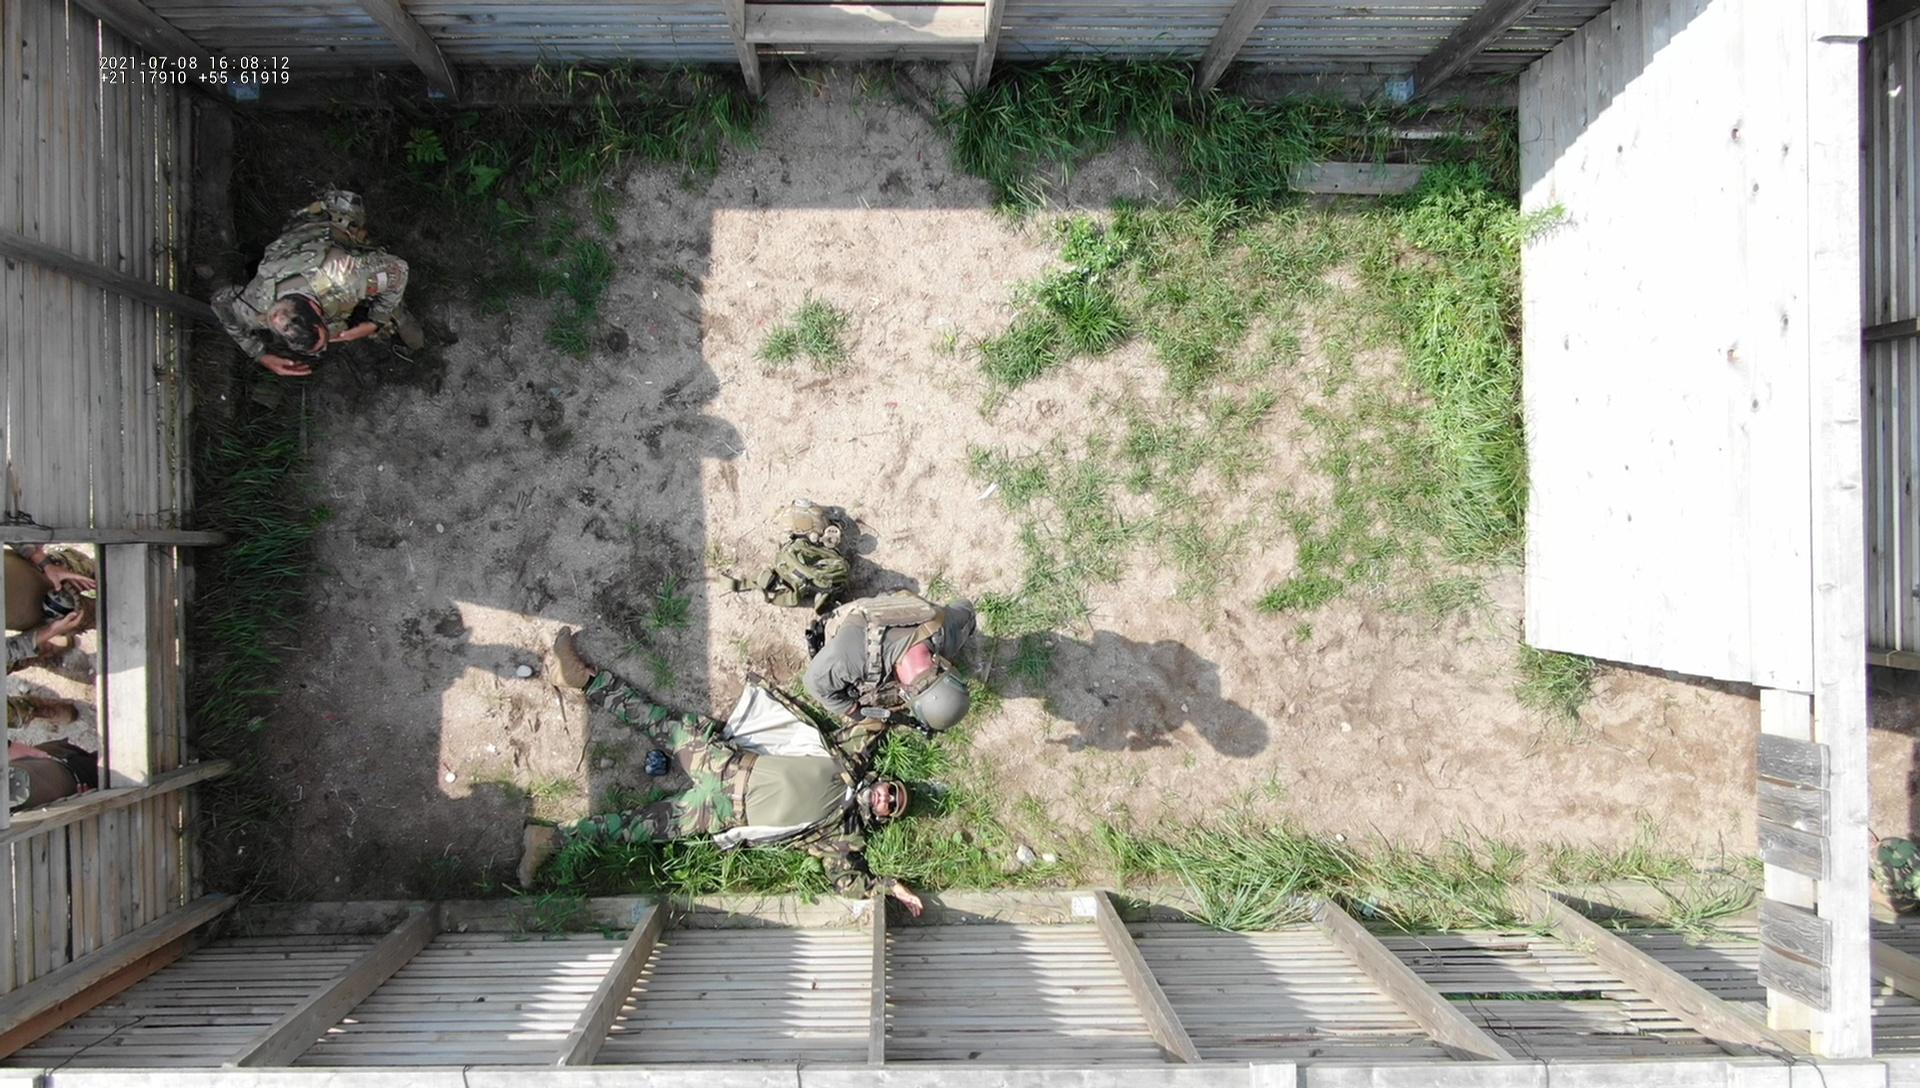Soldier: (516, 625, 922, 913), (207, 190, 426, 382), (802, 592, 973, 735)
